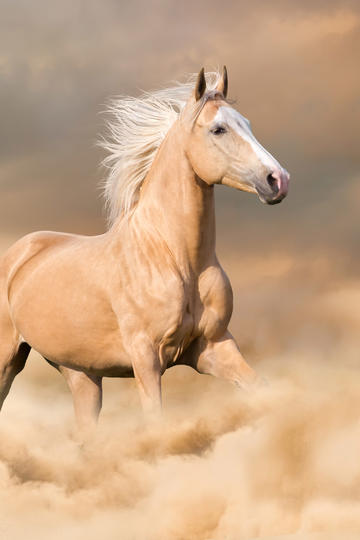horse: (0, 66, 294, 443)
